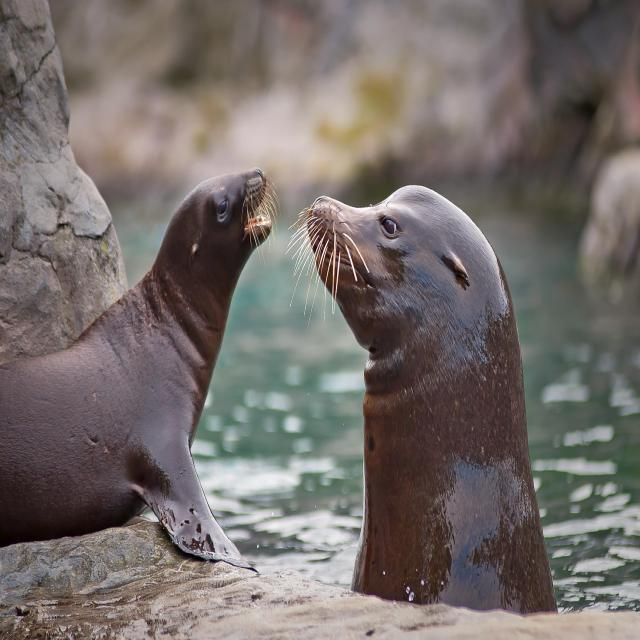WaterDog: (305, 172, 554, 608), (0, 164, 278, 553)
